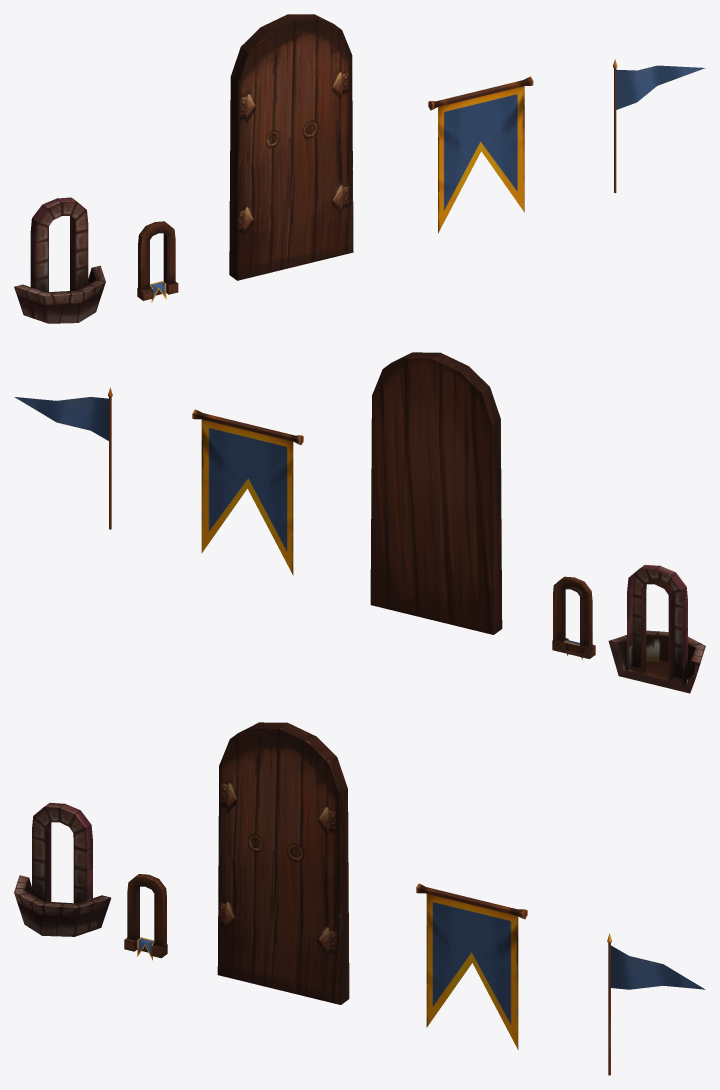
The model's file is Obj_castle_mago_assets.fbx.
3 views of the same model, one above another, from view 1: azimuth 30°, elevation 25°; view 2: azimuth 150°, elevation 25°; view 3: azimuth 330°, elevation 25° (orthographic). The views are drawn at different scales.
Parts seen in each view (by area): view 1: Obj_door, Obj_flag_down, Obj_ventana_terraza, Obj_banderin, Obj_ventana; view 2: Obj_door, Obj_flag_down, Obj_ventana_terraza, Obj_banderin, Obj_ventana; view 3: Obj_door, Obj_flag_down, Obj_ventana_terraza, Obj_banderin, Obj_ventana.
Part boxes in pixels (box(x1,y1,x2,y2)): Obj_door: box(229, 14, 353, 280); Obj_flag_down: box(428, 76, 533, 233); Obj_ventana_terraza: box(14, 197, 105, 323); Obj_banderin: box(613, 59, 705, 192); Obj_ventana: box(137, 221, 178, 302); Obj_door: box(370, 352, 502, 634); Obj_flag_down: box(192, 409, 303, 575); Obj_ventana_terraza: box(608, 565, 705, 693); Obj_banderin: box(14, 387, 112, 529); Obj_ventana: box(552, 576, 595, 659); Obj_door: box(217, 722, 349, 1004); Obj_flag_down: box(416, 883, 527, 1049); Obj_ventana_terraza: box(14, 802, 111, 936); Obj_banderin: box(607, 933, 705, 1075); Obj_ventana: box(124, 874, 167, 960).
Size of the model in its own units: 1374 by 495 by 88.63.
